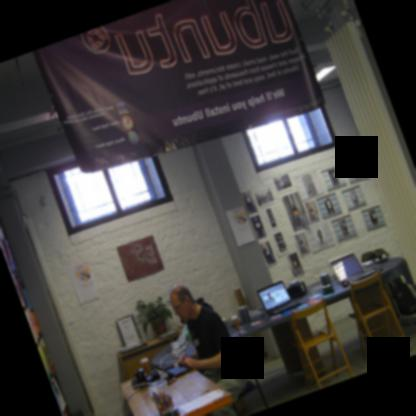suitcase: (361, 253, 416, 323)
